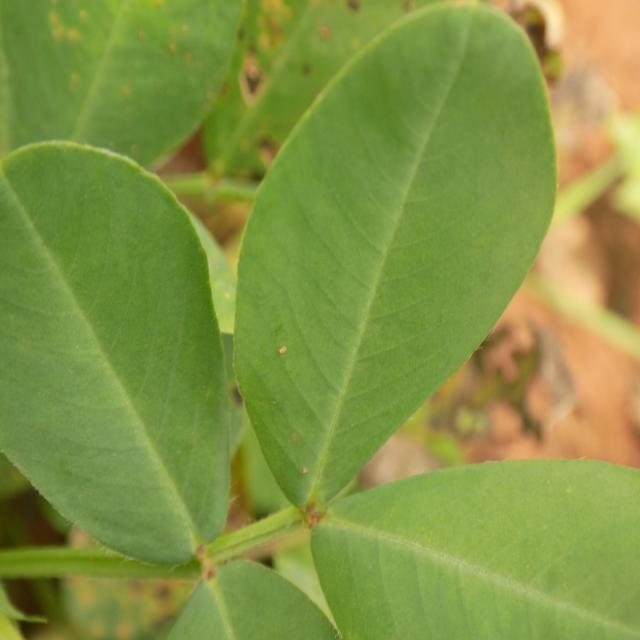Ground nut_healthy: (232, 0, 552, 524)
